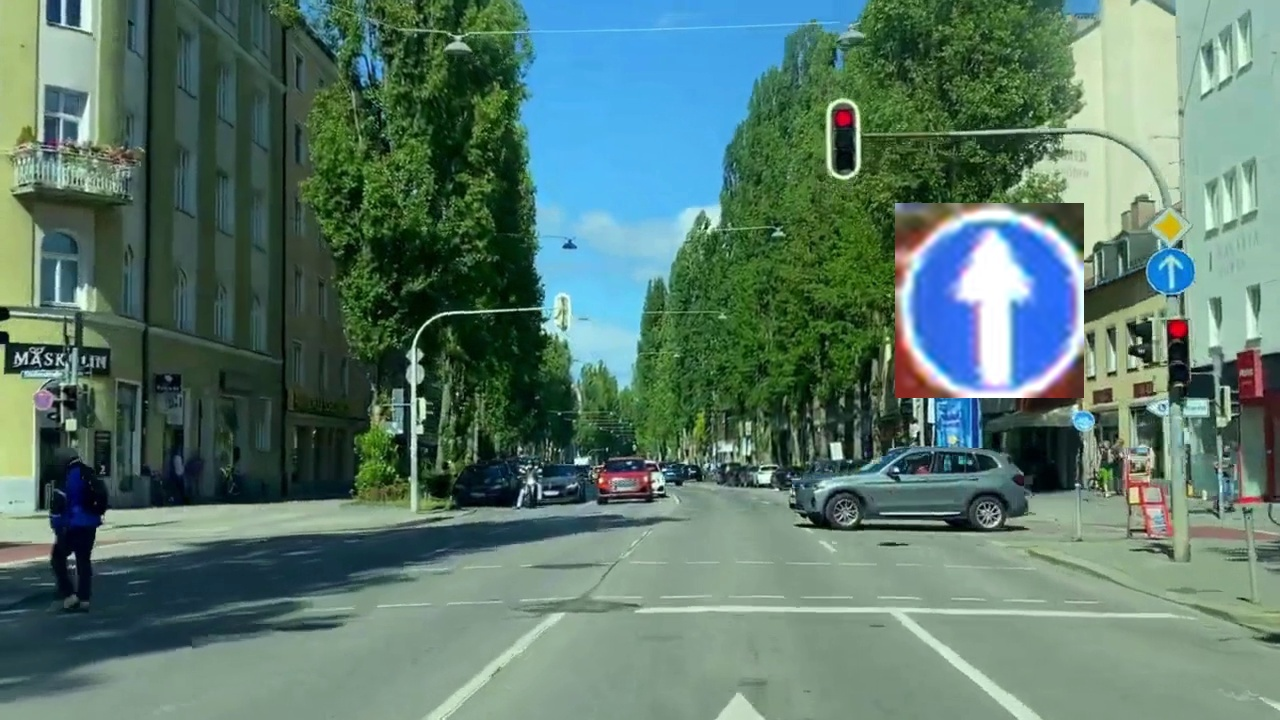Ahead only: (895, 203, 1084, 398)
